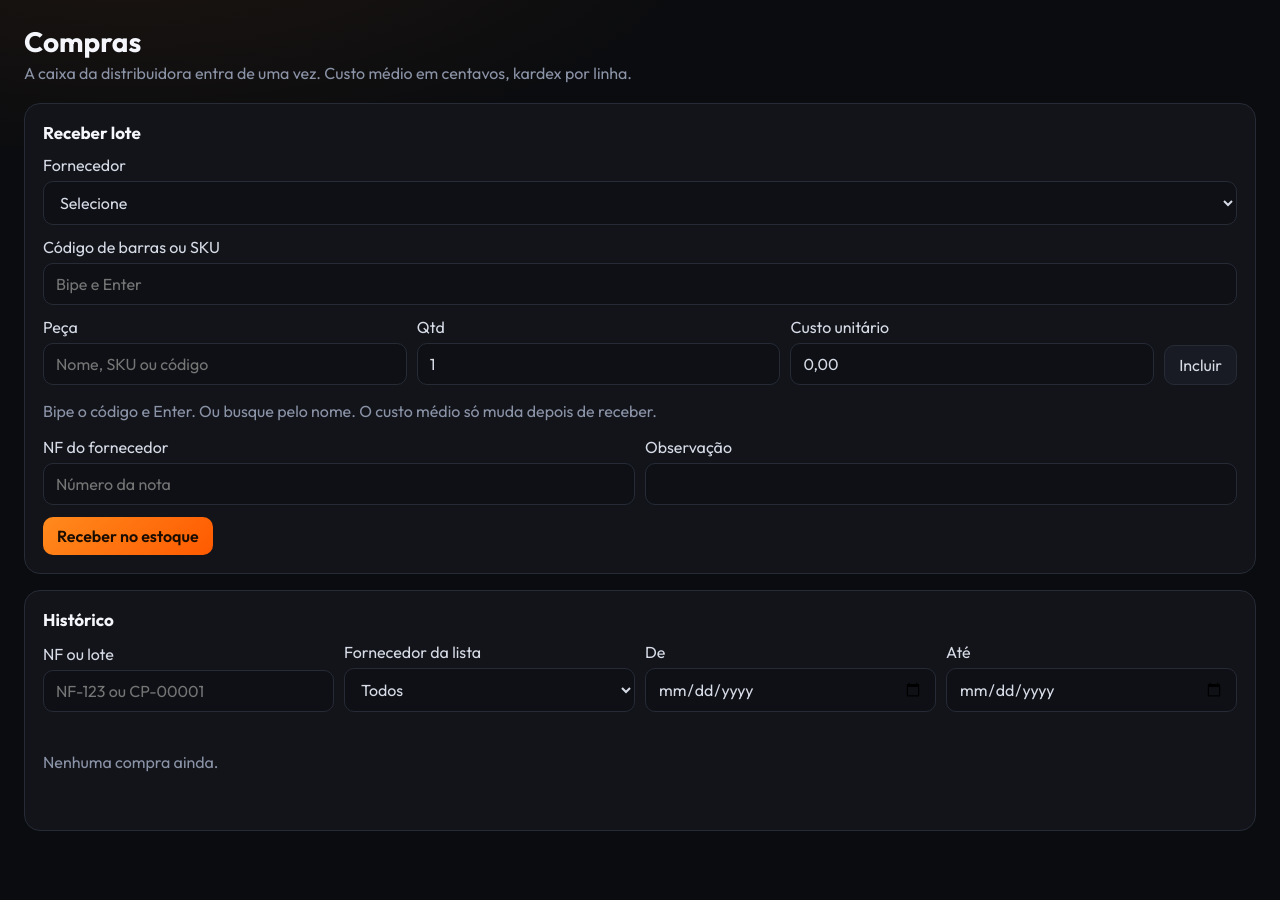
Compras › inclui a peça no lote com Enter no código
expect the text "Nenhuma compra ainda." is shown: met, box top-left (43, 752), bottom-right (218, 772)
Type "COR-01" into the field labelled "Código de barras ou SKU" at (640, 284), box top-left (43, 263), bottom-right (1237, 305)
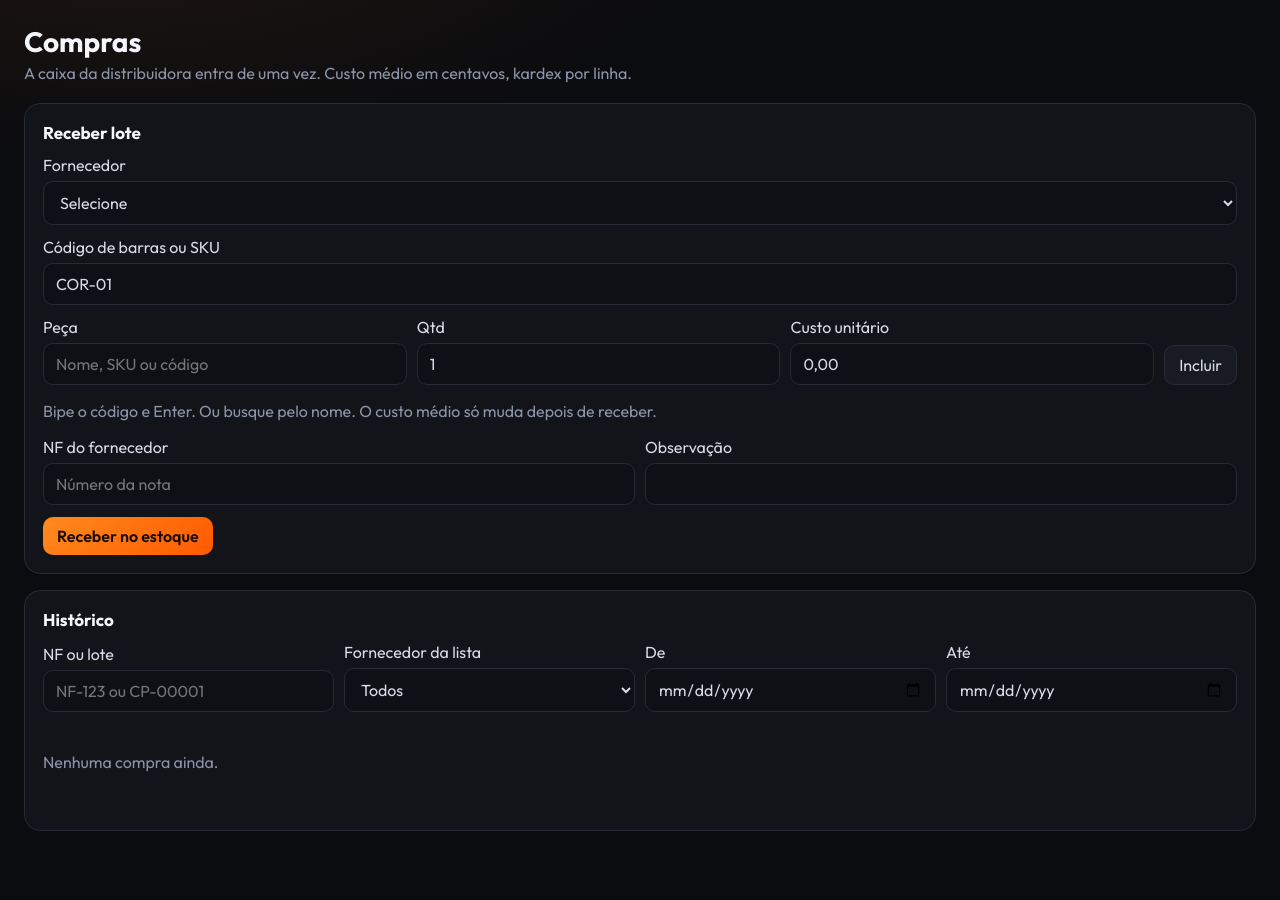
Submit the form labelled "Código de barras ou SKU", box top-left (43, 237), bottom-right (1237, 305)
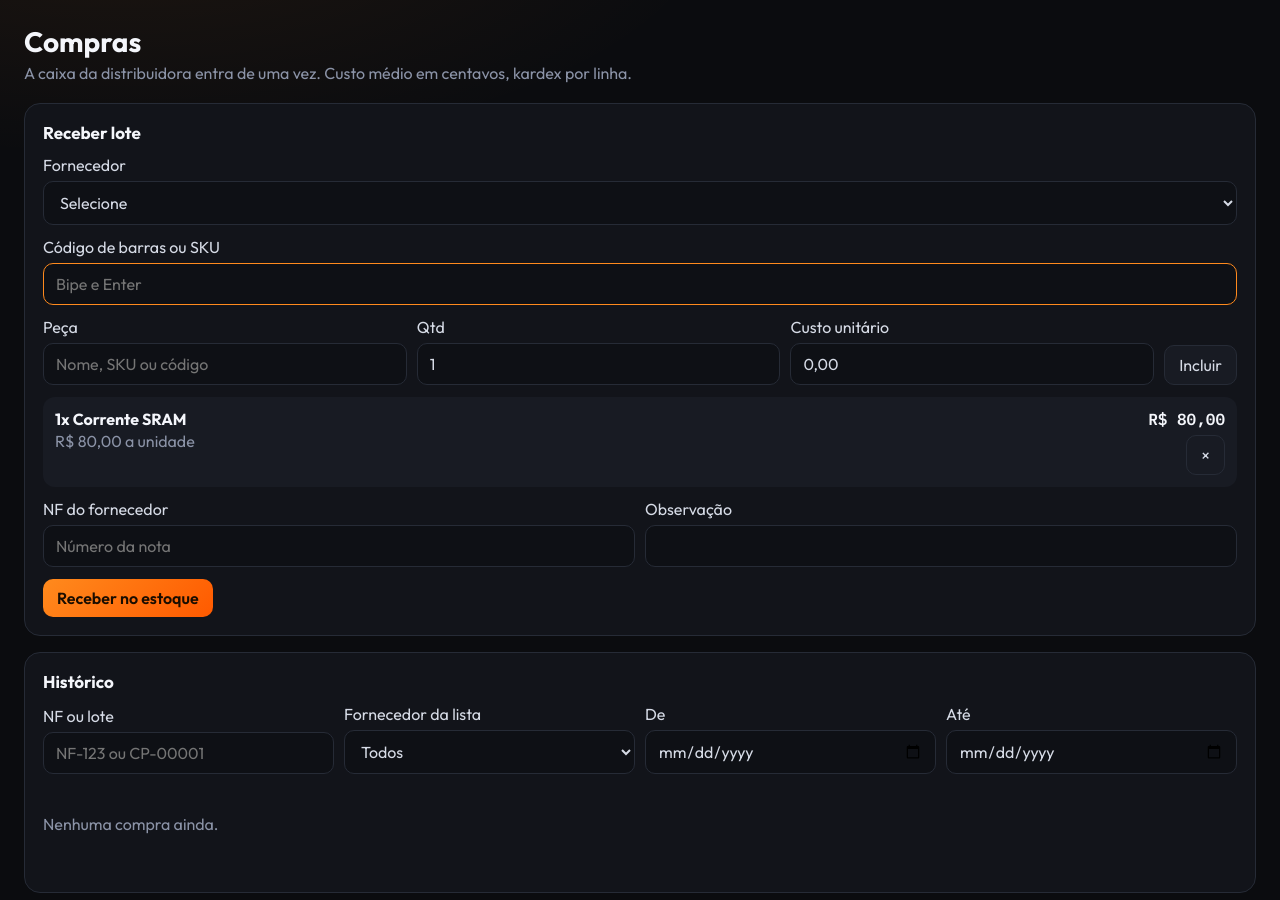
expect the text "1x Corrente SRAM" is shown: met, box top-left (55, 409), bottom-right (186, 429)
